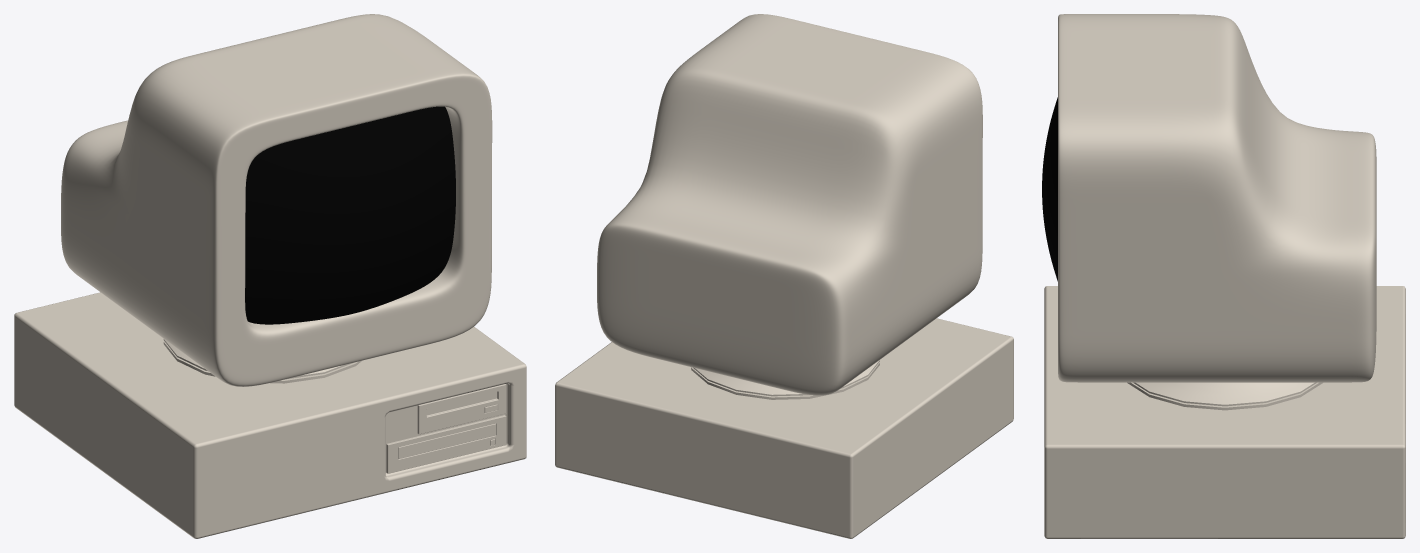
3 views of the same model, side by side, from view 1: azimuth 30°, elevation 25°; view 2: azimuth 150°, elevation 25°; view 3: azimuth 270°, elevation 25° (orthographic). The views are drawn at different scales.
Visible parts, largest first — view 1: monitor, pc, monitor_base; view 2: monitor, pc, monitor_base; view 3: monitor, pc, monitor_base.
Part boxes in pixels (<box>): monitor: <box>61,14,492,386</box>; pc: <box>14,292,526,538</box>; monitor_base: <box>163,339,361,383</box>; monitor: <box>597,14,982,395</box>; pc: <box>555,318,1013,538</box>; monitor_base: <box>691,360,879,399</box>; monitor: <box>1042,14,1376,382</box>; pc: <box>1044,286,1405,538</box>; monitor_base: <box>1127,382,1322,410</box>.
Bounding box in the file's own units: 1.29 × 1.47 × 1.23.
